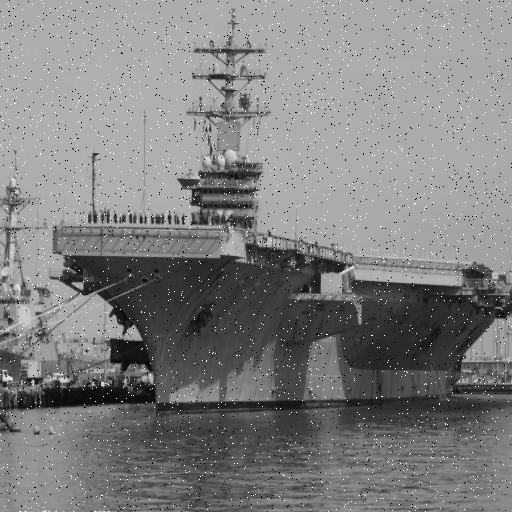Portanaves: (48, 1, 512, 419)
